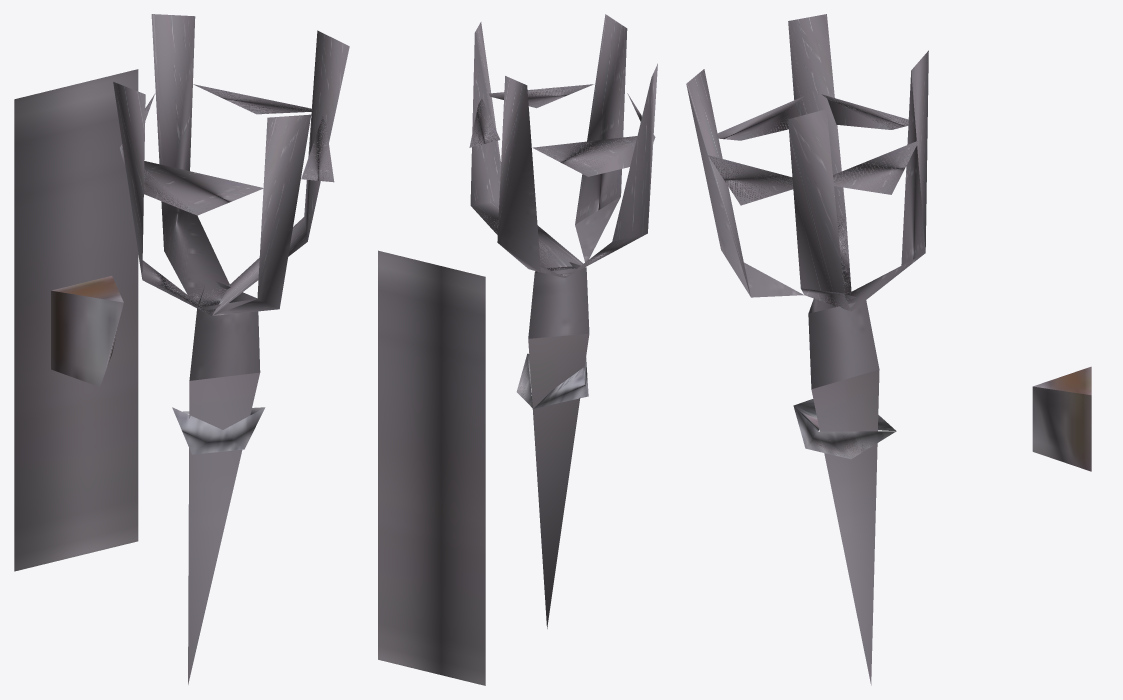
Rendered from Torch_Metal.low.gltf.
The picture shows the model from 3 angles, left to right: view 1: azimuth 30°, elevation 25°; view 2: azimuth 150°, elevation 25°; view 3: azimuth 270°, elevation 25°; orthographic projection. The views are drawn at different scales.
Parts seen in each view (by area): view 1: Torch_Metal; view 2: Torch_Metal; view 3: Torch_Metal.
Part boxes in pixels (x1,y1,x2,y2): Torch_Metal: (14, 14, 349, 684); Torch_Metal: (378, 14, 657, 685); Torch_Metal: (686, 14, 1091, 685).
Size of the model in its own units: 0.2232 by 0.6416 by 0.3884.
Materials: 1 (1 with a texture image).
